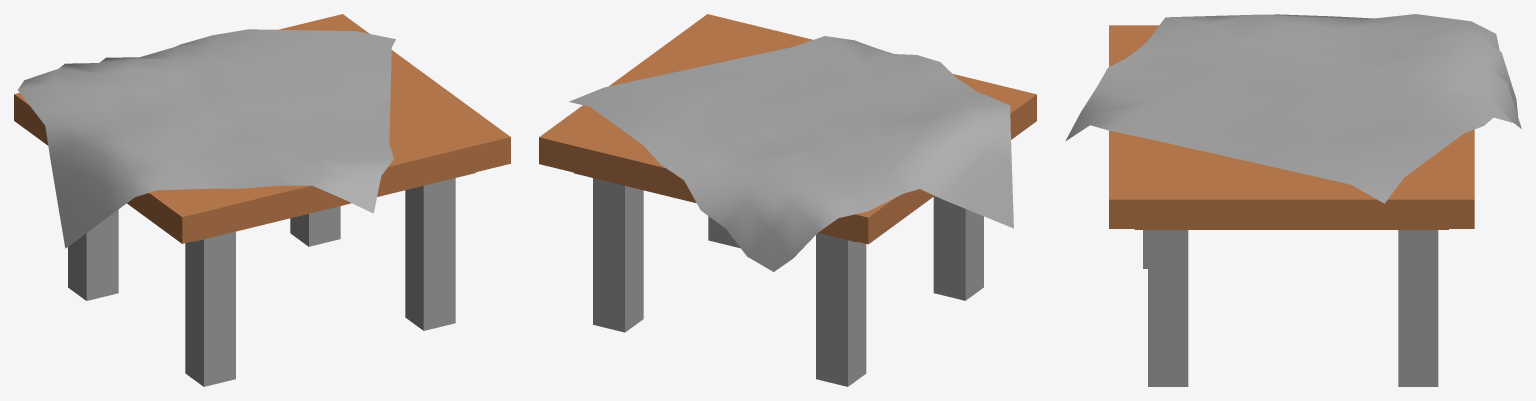
File: mesa.fbx
The picture shows the model from 3 angles, left to right: view 1: azimuth 30°, elevation 25°; view 2: azimuth 150°, elevation 25°; view 3: azimuth 270°, elevation 25°; orthographic projection. The views are drawn at different scales.
Parts seen in each view (by area): view 1: pPlane1, pCube1, pCube3, pCube6, pCube4, pCube5; view 2: pPlane1, pCube1, pCube4, pCube5, pCube3, pCube6; view 3: pPlane1, pCube1, pCube5, pCube6.
Part boxes in pixels (x1,y1,x2,y2): pPlane1: (18, 29, 395, 248); pCube1: (14, 14, 510, 243); pCube3: (185, 231, 235, 386); pCube6: (405, 178, 455, 330); pCube4: (68, 209, 118, 300); pCube5: (290, 206, 340, 246); pPlane1: (569, 36, 1013, 271); pCube1: (539, 14, 1036, 244); pCube4: (816, 233, 866, 386); pCube5: (593, 178, 643, 332); pCube3: (933, 196, 983, 300); pCube6: (708, 216, 740, 248); pPlane1: (1065, 14, 1521, 203); pCube1: (1109, 25, 1474, 228); pCube5: (1398, 230, 1438, 386); pCube6: (1148, 230, 1188, 386).
Size of the model in its own units: 6.56 by 3.39 by 6.16.
